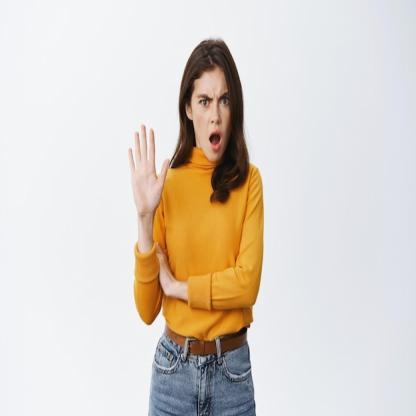stop: (124, 121, 173, 237)
